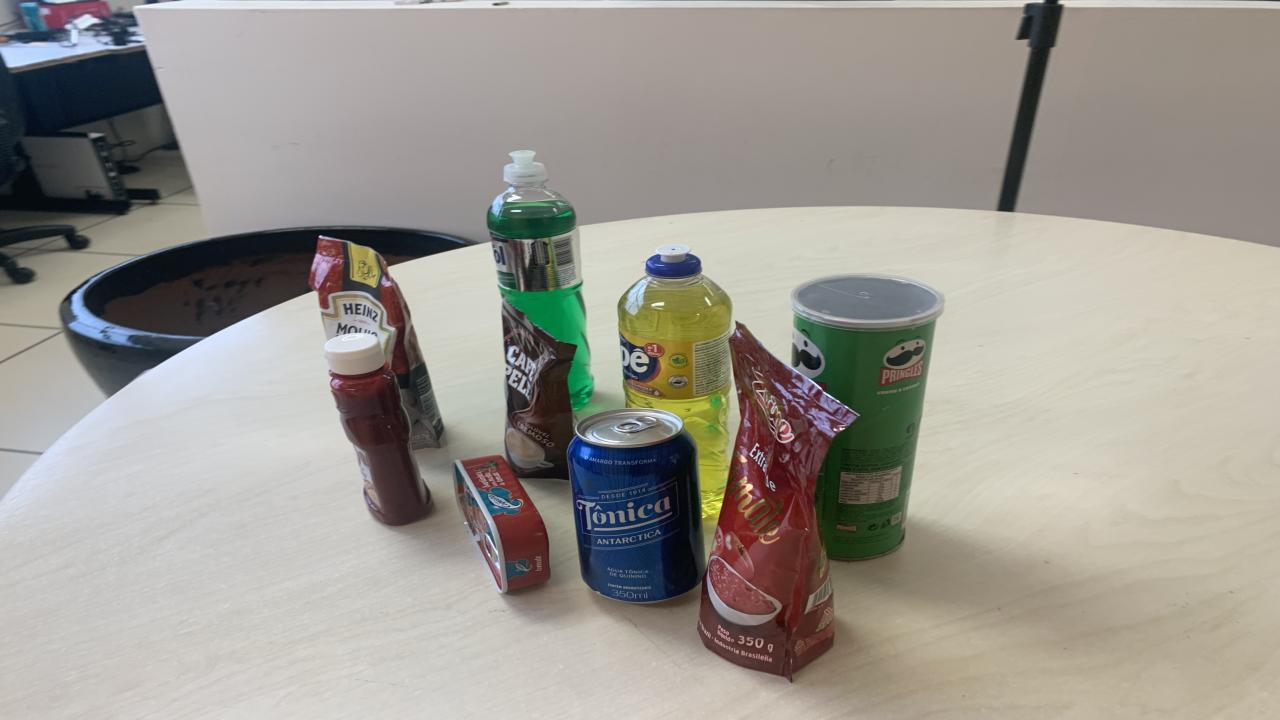Coffee-Pantry_Items: (502, 300, 578, 478)
Detergent-Cleanup_Items: (618, 244, 732, 518), (488, 152, 595, 409)
Ketchup-Pantry_Items: (325, 332, 432, 525)
Pringles-Snacks: (790, 274, 945, 561)
Tomato_Sauce-Pantry_Items: (698, 322, 858, 679), (310, 236, 445, 448)
Tonic-Drinks: (568, 409, 705, 604)
Tuna_Can-Pantry_Items: (452, 456, 550, 592)
